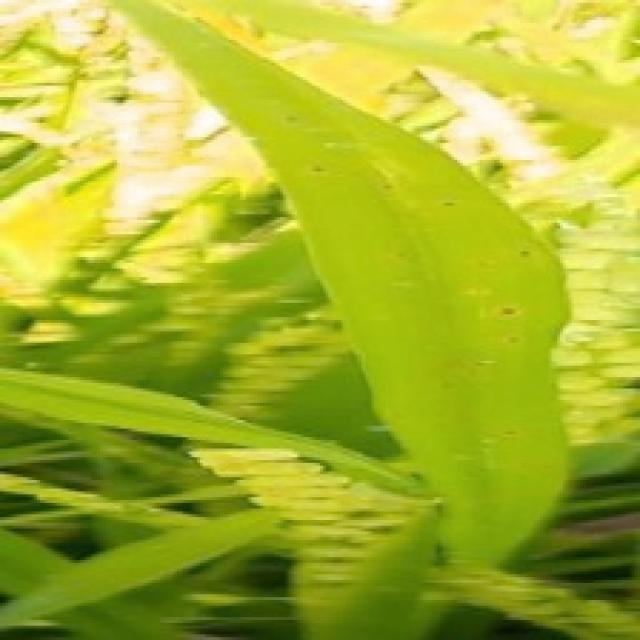Unhealthy: (285, 113, 299, 124), (502, 428, 519, 437), (309, 166, 328, 174), (381, 183, 395, 193), (507, 336, 521, 345), (501, 307, 516, 315), (519, 250, 530, 258), (442, 202, 458, 206)
